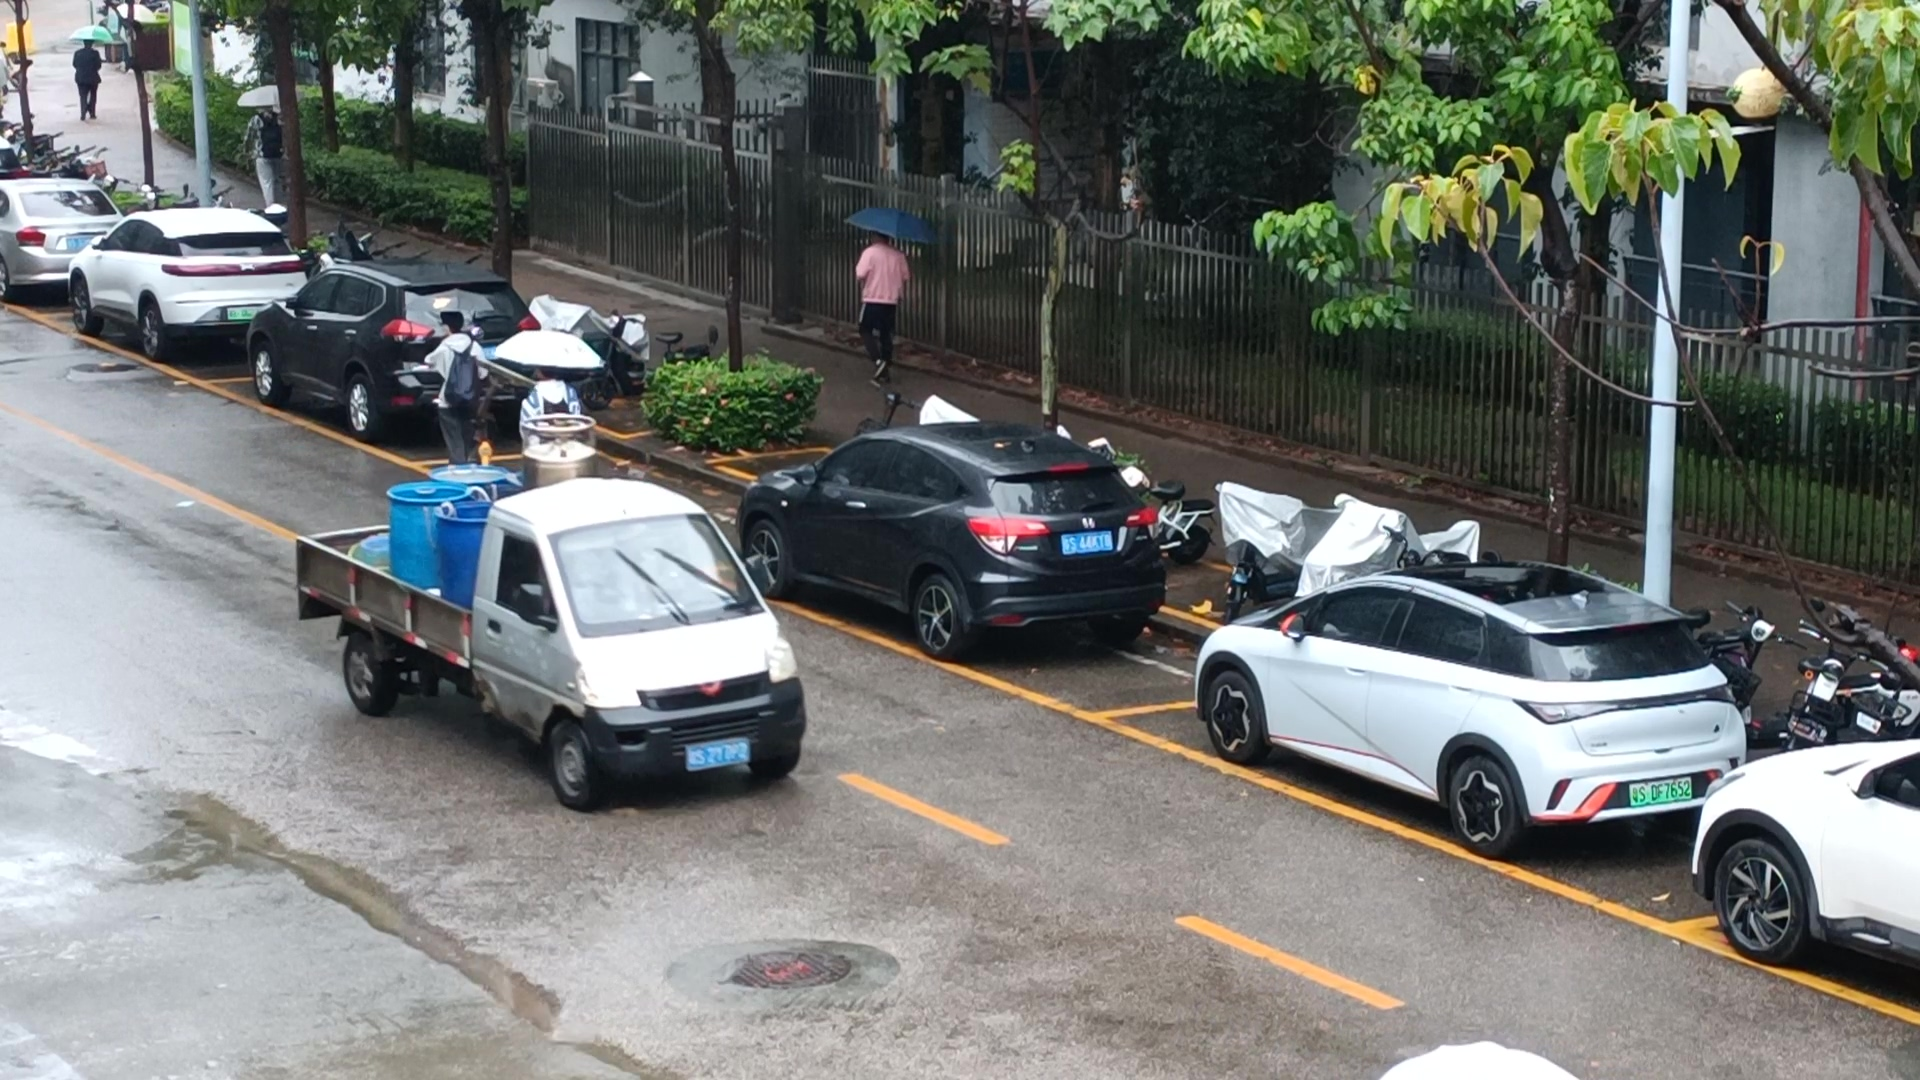space-empty: (419, 444, 808, 578)
space-occupied: (1096, 669, 1847, 940), (717, 531, 1284, 724), (196, 349, 579, 465), (26, 293, 339, 390)
